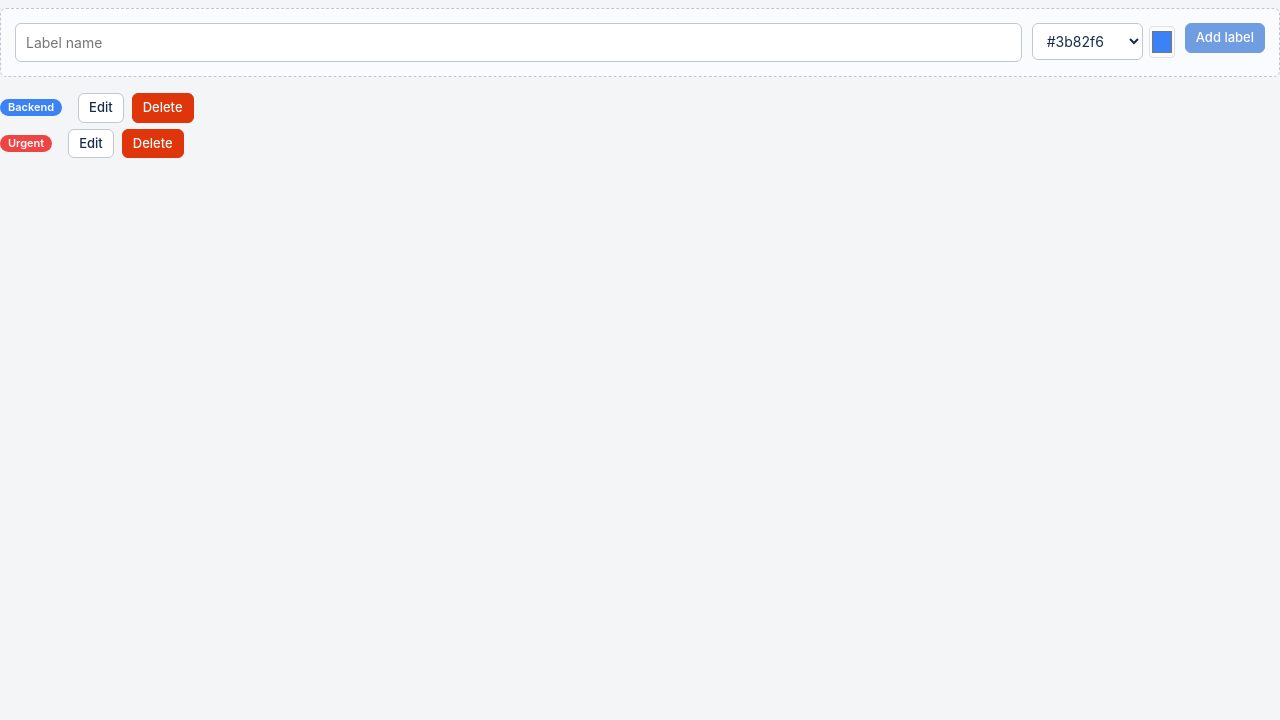
it: LabelsManager — edit / recolor (acceptance) › renames a label inline and reflects the new name after refetch
Expected: the text "Backend" is shown, [0,99,62,116]
# Click Edit on the first label row, change the name, Save.
Click the button "Edit" next to "Backend": (101, 108) [78,93,124,122]
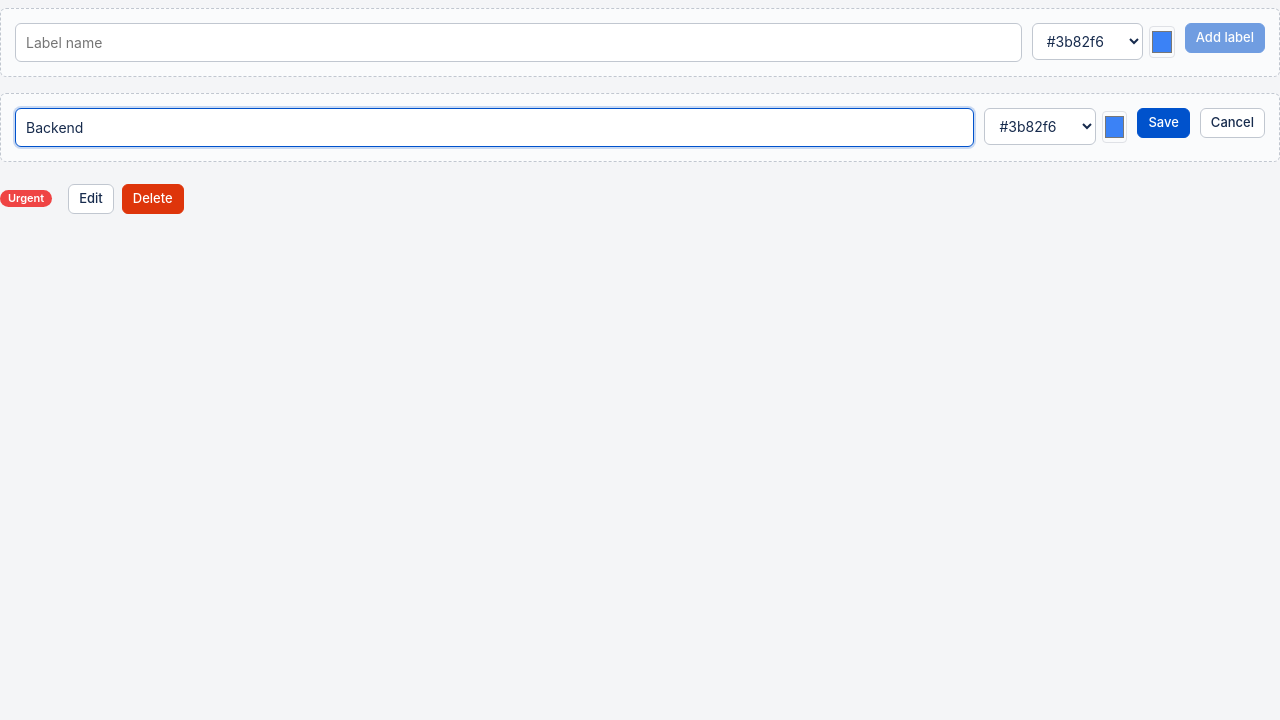
Replace the text in the field named "Label name" with "Backend API": (495, 128) [15,108,974,147]
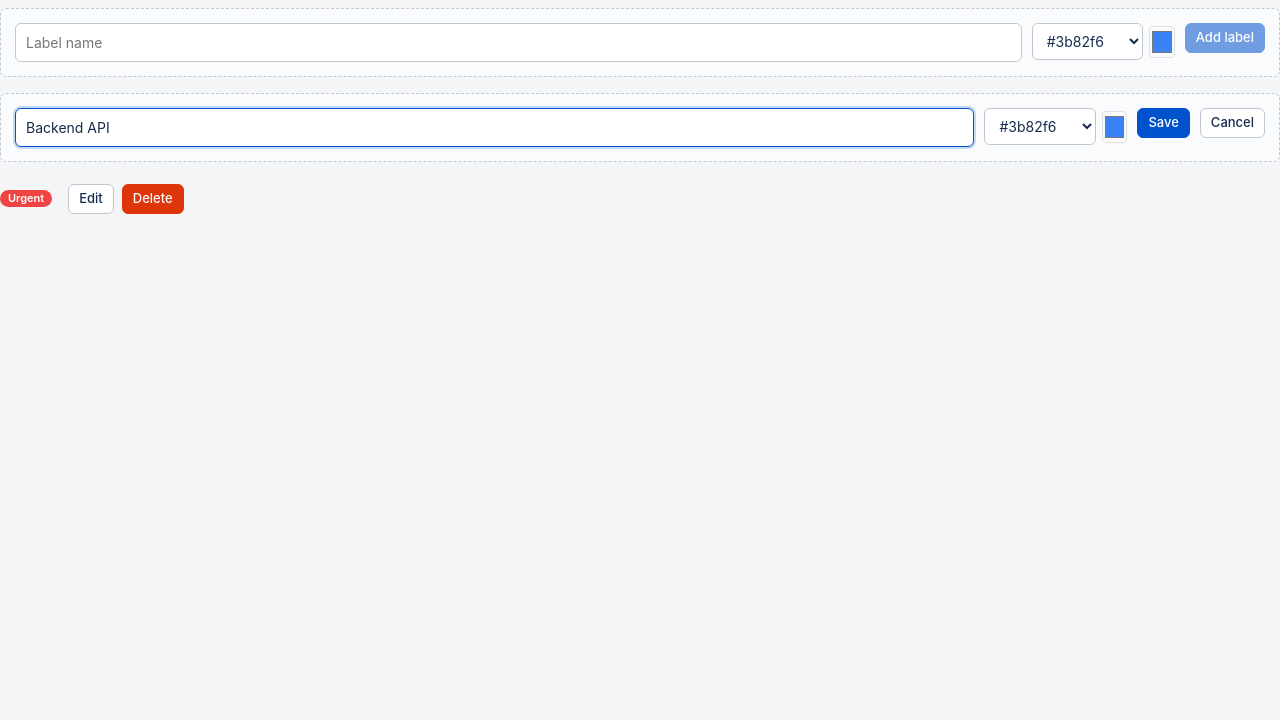
Click the button "Save": (1164, 123) [1137,108,1190,138]
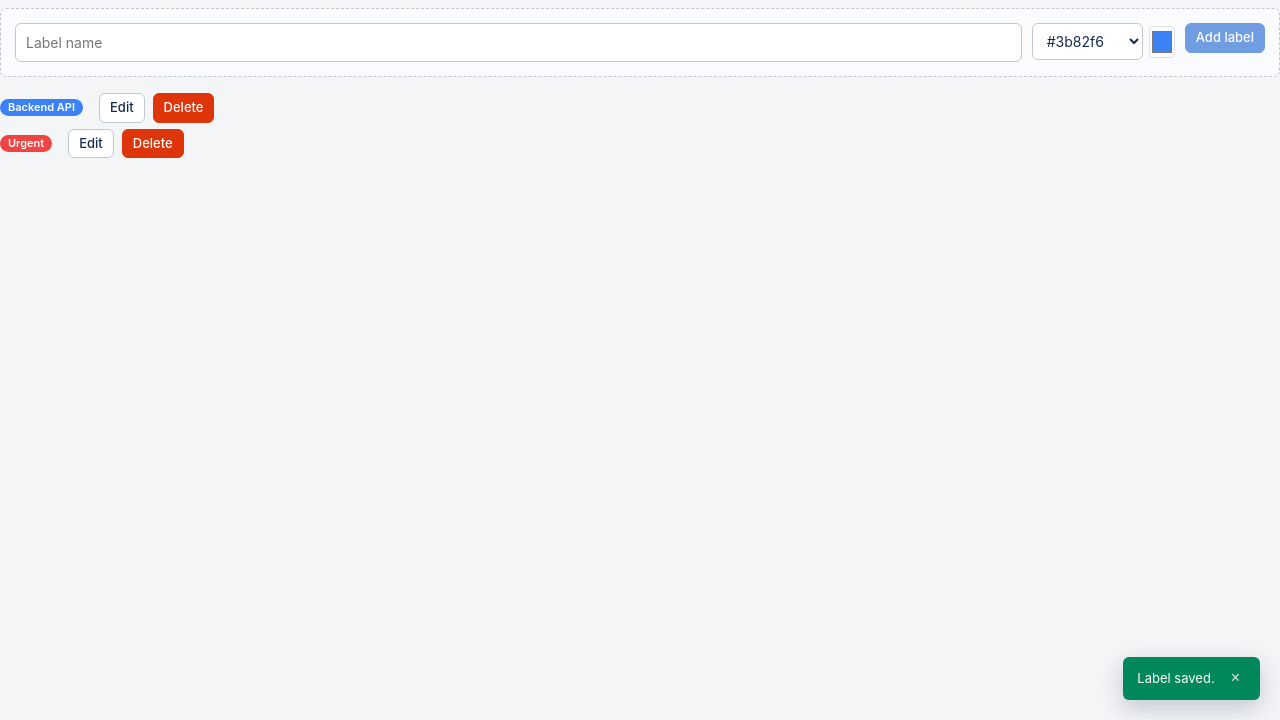
Result: the text "Backend API" is shown at [0,99,83,116]
